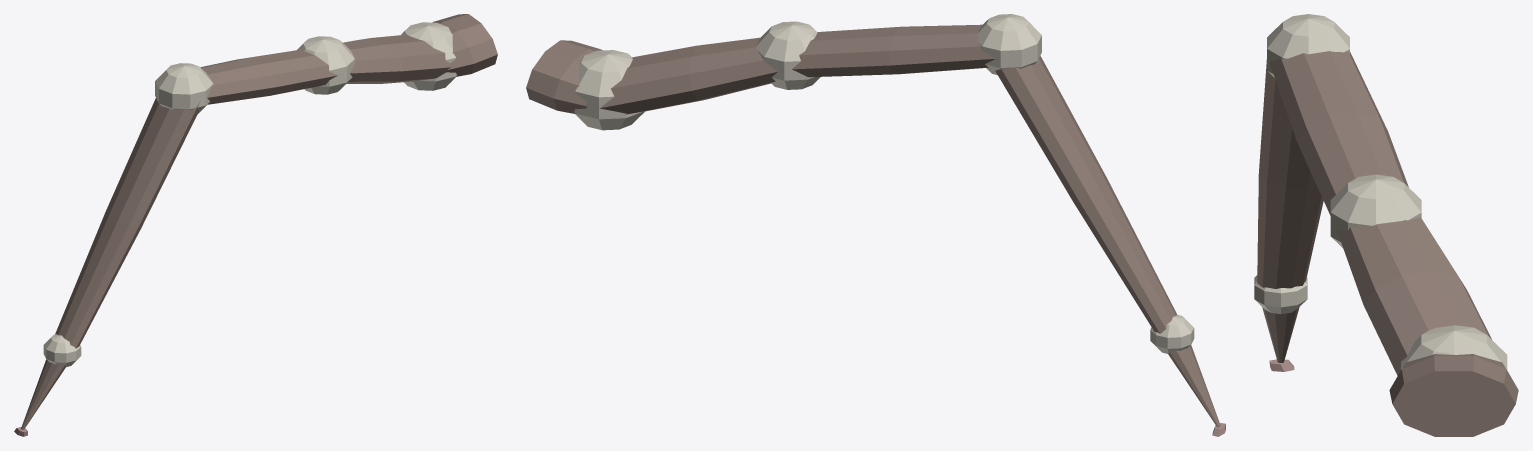
File: crab_leg_l3_original_01.glb
The picture shows the model from 3 angles, left to right: view 1: azimuth 30°, elevation 25°; view 2: azimuth 150°, elevation 25°; view 3: azimuth 270°, elevation 25°; orthographic projection. The views are drawn at different scales.
Visible parts, largest first — view 1: L3Segment3, L3Segment2, L3Segment1, L3Segment0, L3Articulation3, L3Articulation2, L3Articulation1, L3Segment4, L3Articulation4; view 2: L3Segment3, L3Segment2, L3Segment1, L3Articulation1, L3Segment0, L3Articulation3, L3Articulation2, L3Segment4, L3Articulation4; view 3: L3Segment1, L3Segment2, L3Segment3, L3Segment0, L3Articulation2, L3Articulation3, L3Articulation1, L3Articulation4, L3Segment4.
Boxes of the visible parts, left/top/right/bottom form: L3Segment3: left=55, top=98, right=200, bottom=348; L3Segment2: left=200, top=49, right=337, bottom=104; L3Segment1: left=343, top=34, right=450, bottom=83; L3Segment0: left=432, top=14, right=497, bottom=76; L3Articulation3: left=155, top=63, right=213, bottom=113; L3Articulation2: left=297, top=36, right=354, bottom=94; L3Articulation1: left=401, top=22, right=456, bottom=90; L3Segment4: left=21, top=359, right=65, bottom=429; L3Articulation4: left=43, top=334, right=81, bottom=366; L3Segment3: left=995, top=56, right=1176, bottom=333; L3Segment2: left=792, top=24, right=995, bottom=77; L3Segment1: left=599, top=37, right=777, bottom=114; L3Articulation1: left=574, top=50, right=644, bottom=130; L3Segment0: left=526, top=40, right=602, bottom=113; L3Articulation3: left=977, top=14, right=1041, bottom=74; L3Articulation2: left=756, top=21, right=820, bottom=89; L3Segment4: left=1168, top=345, right=1220, bottom=427; L3Articulation4: left=1150, top=315, right=1194, bottom=353; L3Segment1: left=1337, top=217, right=1491, bottom=375; L3Segment2: left=1269, top=51, right=1408, bottom=215; L3Segment3: left=1257, top=59, right=1323, bottom=288; L3Segment0: left=1389, top=354, right=1518, bottom=436; L3Articulation2: left=1330, top=174, right=1421, bottom=248; L3Articulation3: left=1267, top=14, right=1349, bottom=77; L3Articulation1: left=1401, top=325, right=1507, bottom=369; L3Articulation4: left=1254, top=275, right=1307, bottom=314; L3Segment4: left=1262, top=307, right=1299, bottom=362.
Size of the model in its own units: 0.5154 by 0.3023 by 0.1527.
